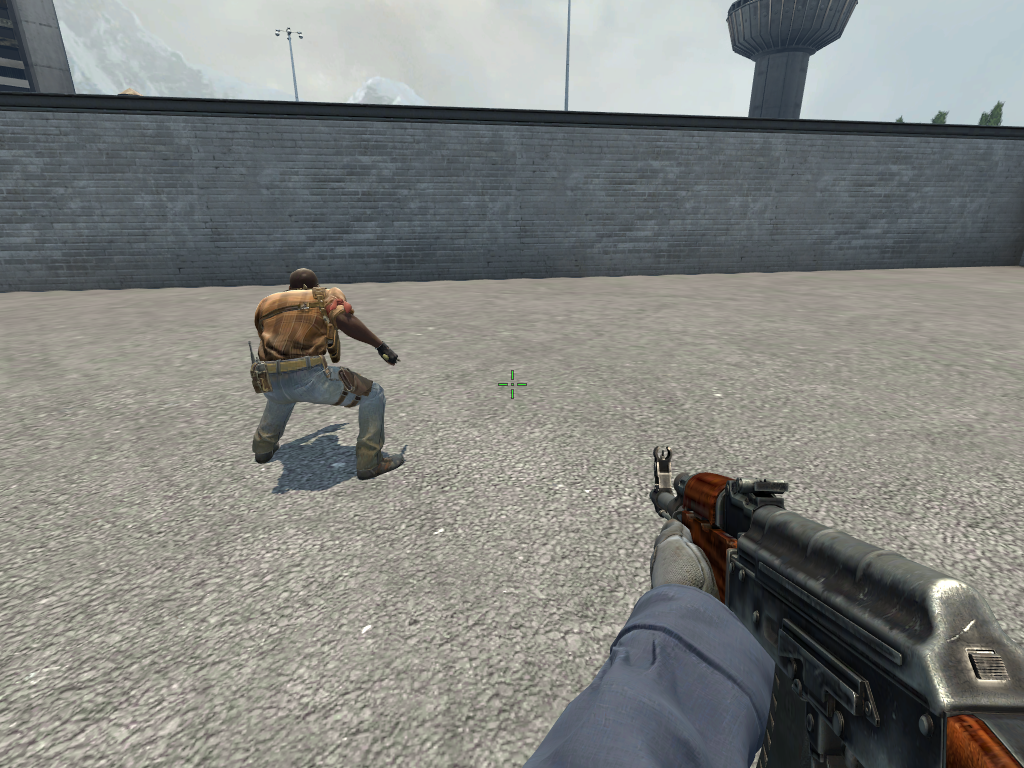tr head: (282, 264, 326, 304)
